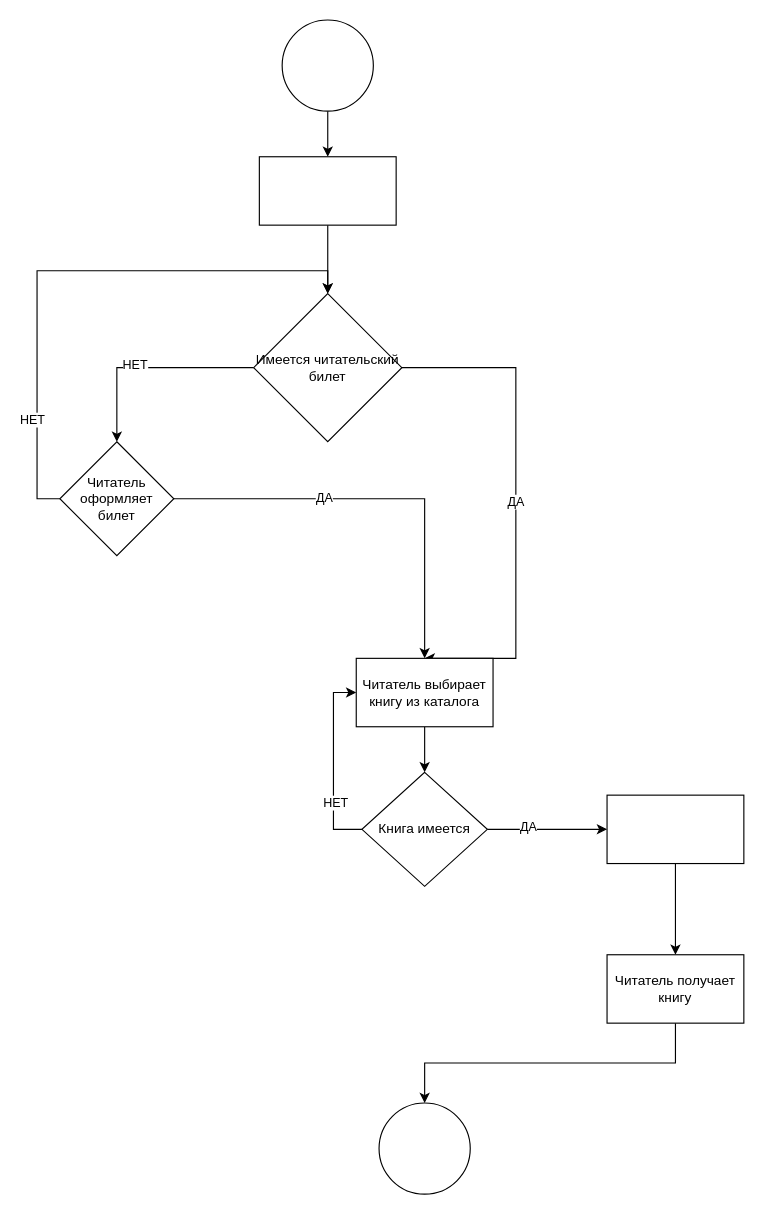
Image size: 764x1214. Some labels were removed from this diagram. Each missing label, with the box of its shape:
Система регистрирует выдачу книги: (606, 794, 744, 864)
Читатель приходит в библиотеку: (258, 156, 396, 225)
